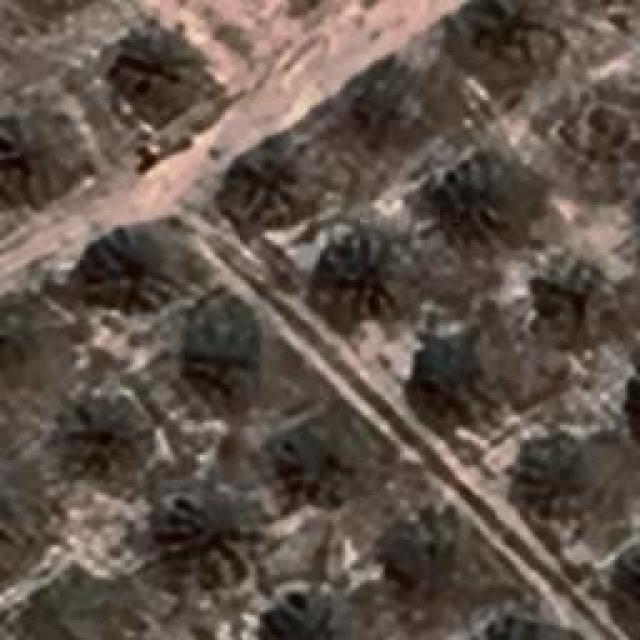PalmTree: (13, 90, 78, 519), (46, 388, 142, 476), (411, 332, 494, 426), (151, 478, 231, 572), (82, 225, 170, 310), (515, 430, 603, 515), (21, 570, 126, 640), (274, 422, 368, 500), (104, 21, 196, 99), (352, 60, 440, 140), (191, 304, 264, 398), (0, 291, 69, 390), (434, 168, 526, 242), (382, 520, 472, 595), (0, 292, 68, 391), (326, 230, 412, 308), (542, 252, 616, 342), (228, 144, 316, 218), (460, 0, 562, 55), (261, 600, 354, 640), (466, 615, 573, 640), (610, 538, 640, 620), (461, 622, 580, 640), (619, 538, 640, 614), (0, 473, 17, 563), (624, 358, 640, 447), (629, 357, 640, 447)
